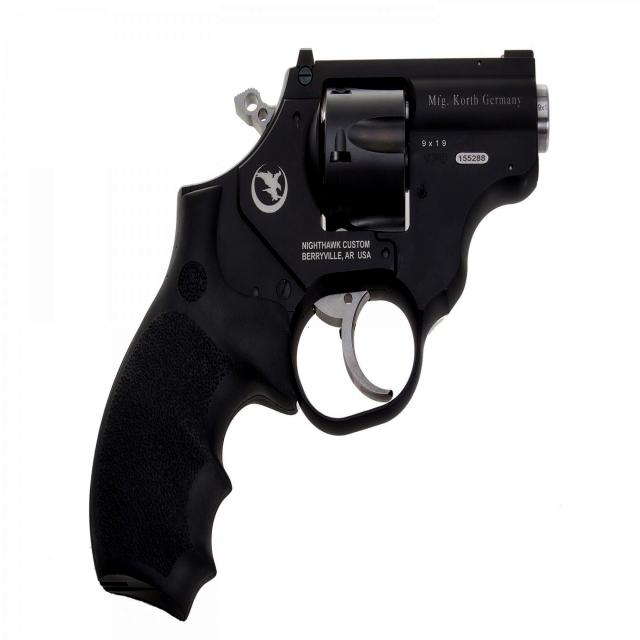revolver: (79, 40, 558, 633)
